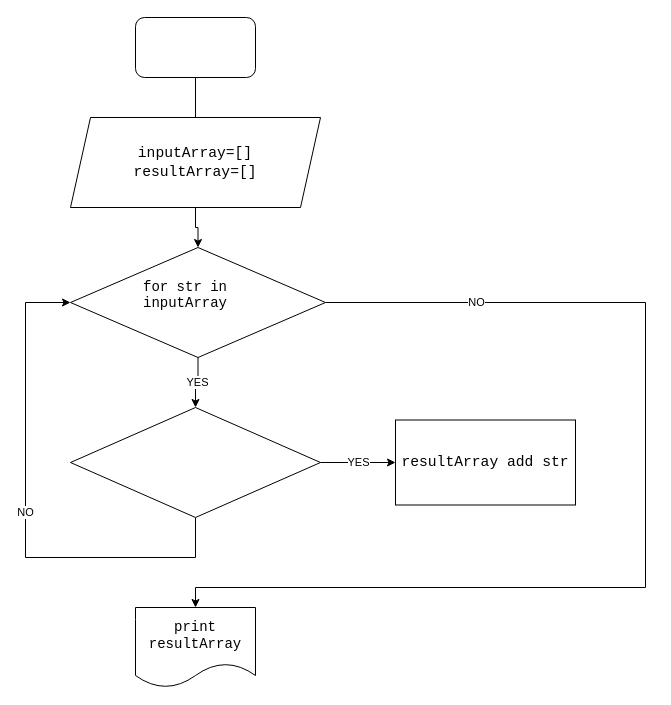
The diagram is 671 pixels wide and 705 high, and some of its shapes have lost their labels. Each missing label, with the centre of its shape:
Start: pixel 195 47
str.length()>=3: pixel 195 462
